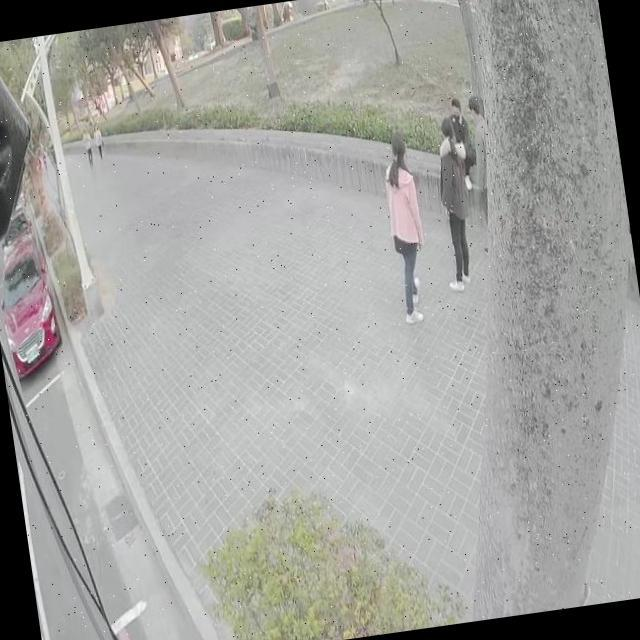person: (377, 127, 435, 323), (429, 114, 483, 288), (465, 99, 499, 208), (448, 96, 478, 186), (82, 122, 96, 166), (94, 120, 106, 160)
